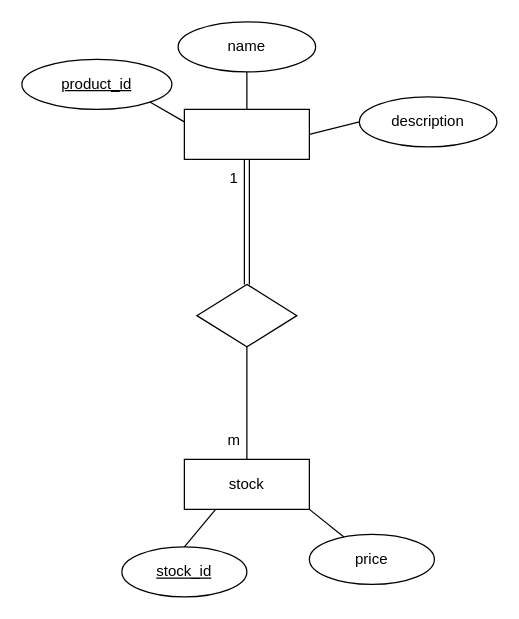
The diagram is 519 pixels wide and 619 high, and some of its shapes have lost their labels. Here are the shapes that lost their labels. From the top down, the box of each, then its label:
(183, 108, 309, 159): Product
(196, 283, 297, 347): has
